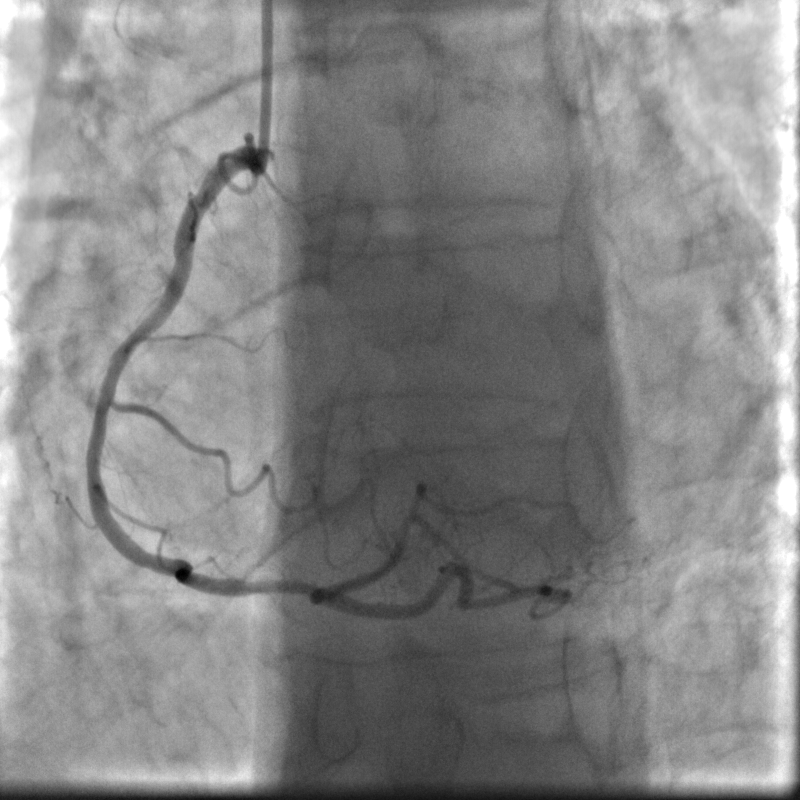Stenosis: (233, 562, 321, 615)
